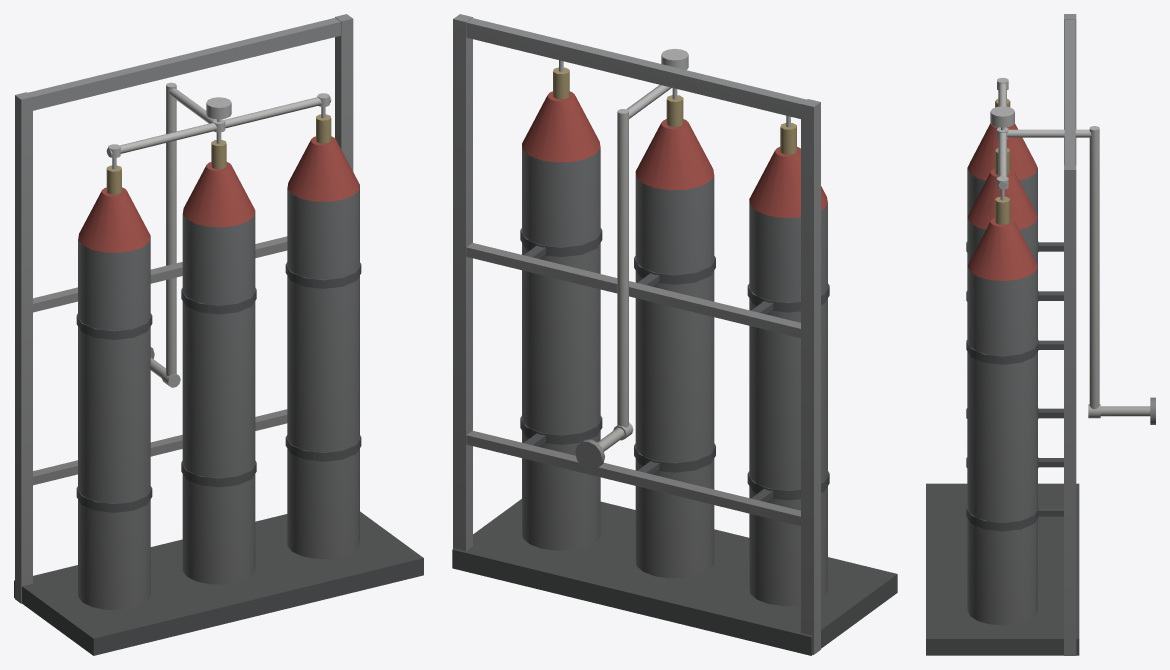
Rendered from flBottleH2_steel.glb.
The picture shows the model from 3 angles, left to right: view 1: azimuth 30°, elevation 25°; view 2: azimuth 150°, elevation 25°; view 3: azimuth 270°, elevation 25°; orthographic projection. The views are drawn at different scales.
Parts seen in each view (by area): view 1: flBottleH2_steel; view 2: flBottleH2_steel; view 3: flBottleH2_steel.
Part boxes in pixels (box(x1,y1,x2,y2)): flBottleH2_steel: box(14, 14, 423, 655); flBottleH2_steel: box(452, 14, 897, 655); flBottleH2_steel: box(926, 14, 1155, 655).
Bounding box in the file's own units: 1.21 × 1.75 × 0.75.
